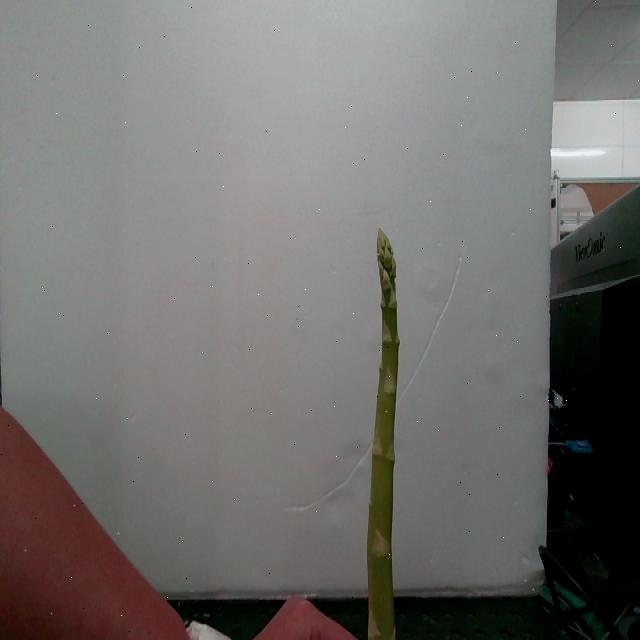aspargus: (368, 231, 402, 640)
